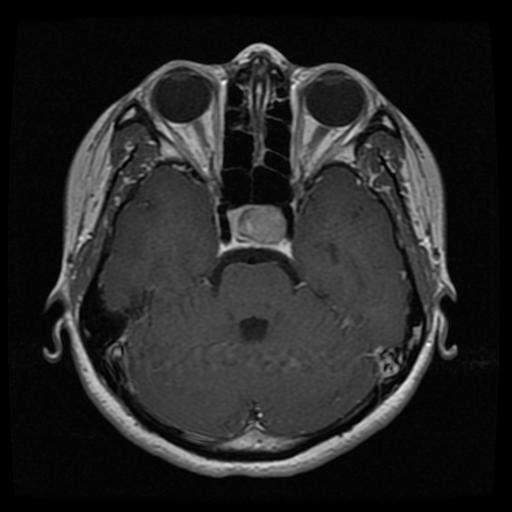Tumour-Pituitary: (215, 203, 295, 259)
